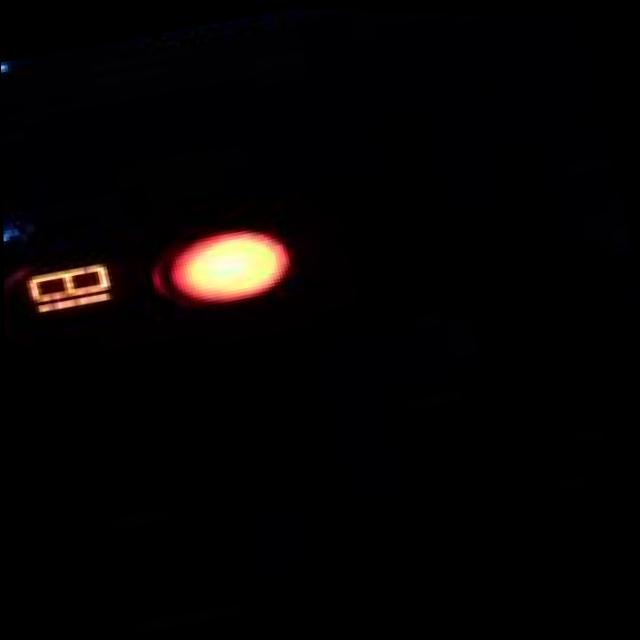red_light: (145, 169, 355, 334)
